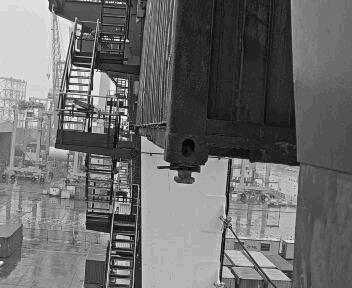twist_lock_1: (164, 84, 203, 117)
